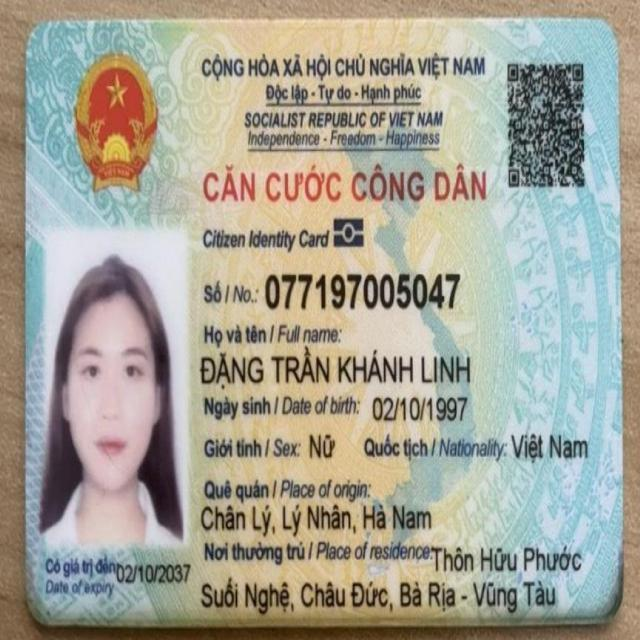current_place: (197, 572, 562, 620), (433, 535, 581, 578)
dob: (372, 391, 471, 425)
expire_date: (114, 556, 193, 591)
gender: (310, 429, 338, 462)
id: (261, 269, 462, 312)
name: (198, 343, 474, 392)
nationality: (507, 425, 592, 467)
origin_place: (200, 501, 437, 538)
